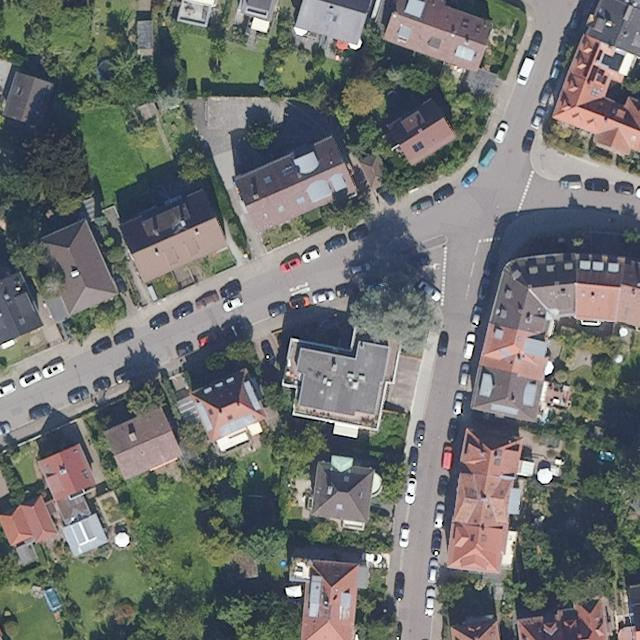PV: (411, 140, 426, 154)
